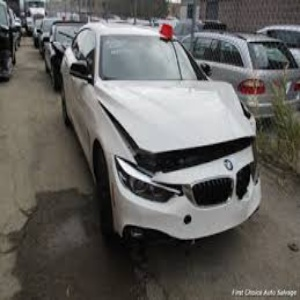bonnet: (137, 79, 258, 146)
